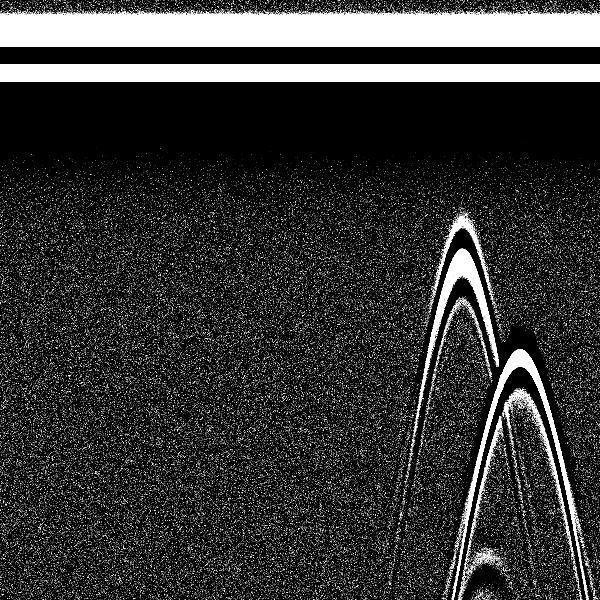pipe: (475, 5, 563, 432), (423, 5, 499, 329)
